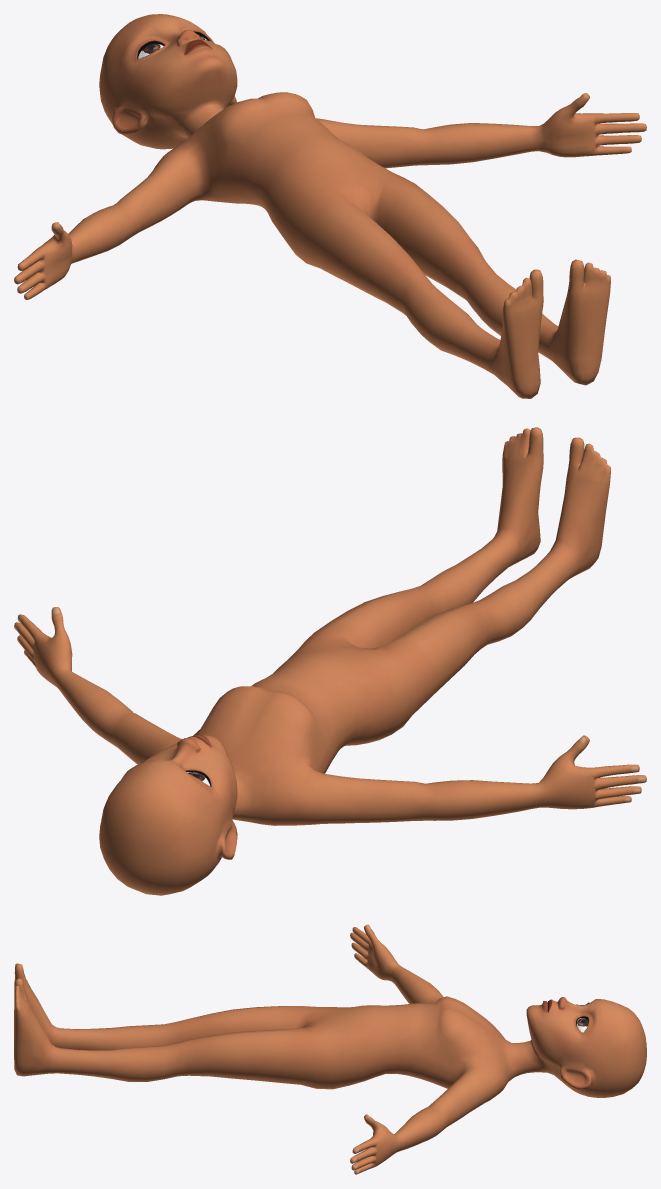
File: frame_0003.glb
3 views of the same model, one above another, from view 1: azimuth 30°, elevation 25°; view 2: azimuth 150°, elevation 25°; view 3: azimuth 270°, elevation 25° (orthographic). The views are drawn at different scales.
Parts seen in each view (by area): view 1: head_geo_frozen; view 2: head_geo_frozen; view 3: head_geo_frozen.
Part boxes in pixels (x1,y1,x2,y2): head_geo_frozen: [14, 14, 646, 398]; head_geo_frozen: [14, 427, 646, 895]; head_geo_frozen: [14, 924, 646, 1174].
Bounding box in the file's own units: 128 × 32.36 × 150.
Materials: 4 (4 with a texture image).
